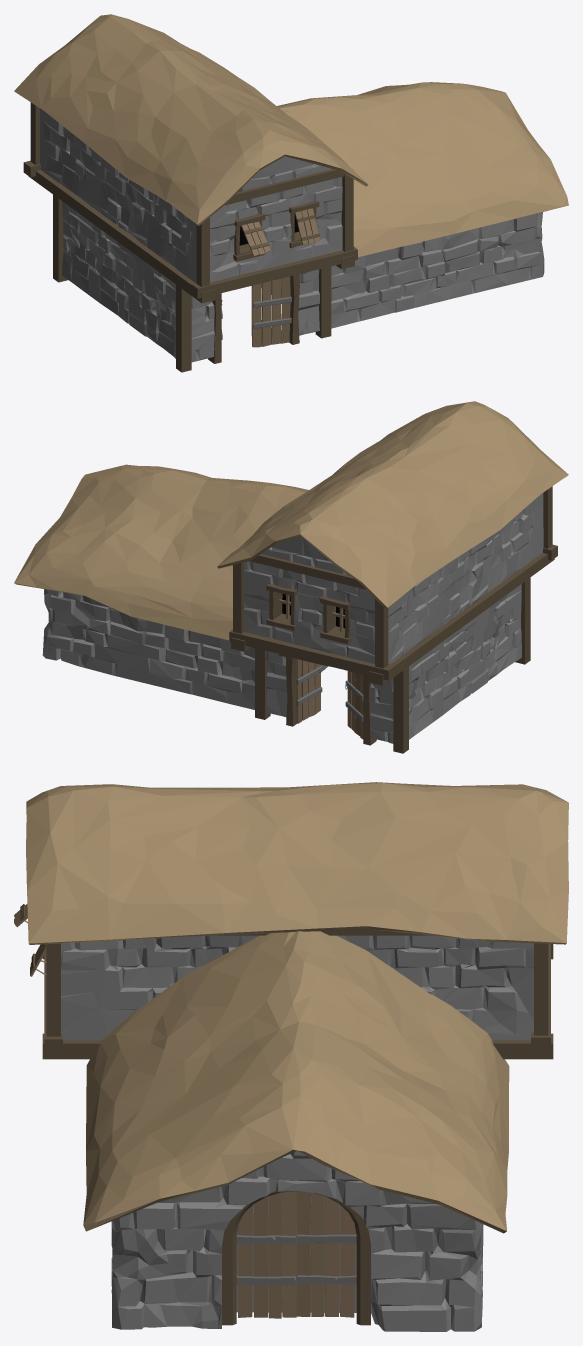
File: village_stone_house_i.FBX
3 renders of one model, top to bottom at view 1: azimuth 30°, elevation 25°; view 2: azimuth 150°, elevation 25°; view 3: azimuth 270°, elevation 25°, orthographic. The views are drawn at different scales.
Parts seen in each view (by area): view 1: village_stone_house_i; view 2: village_stone_house_i; view 3: village_stone_house_i.
Part boxes in pixels (x1,y1,x2,y2): village_stone_house_i: (14,14,568,372); village_stone_house_i: (14,401,568,753); village_stone_house_i: (14,782,568,1331).
Size of the model in its own units: 11.72 by 6.71 by 9.58.
